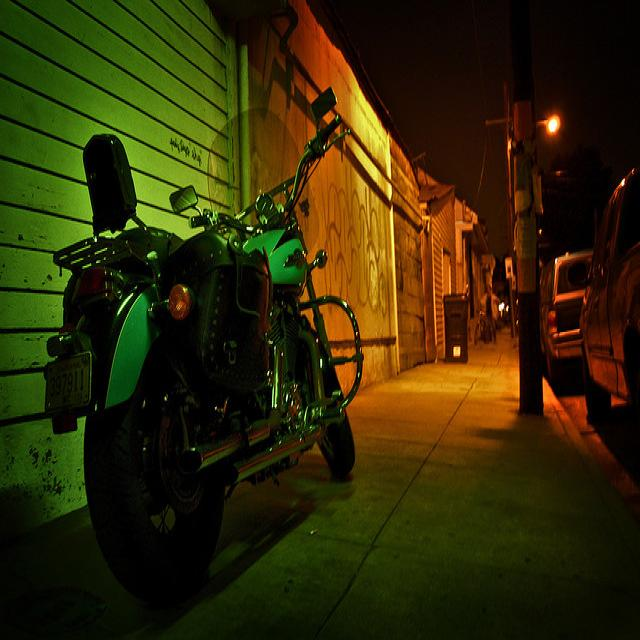Motorbike: (44, 163, 390, 556)
